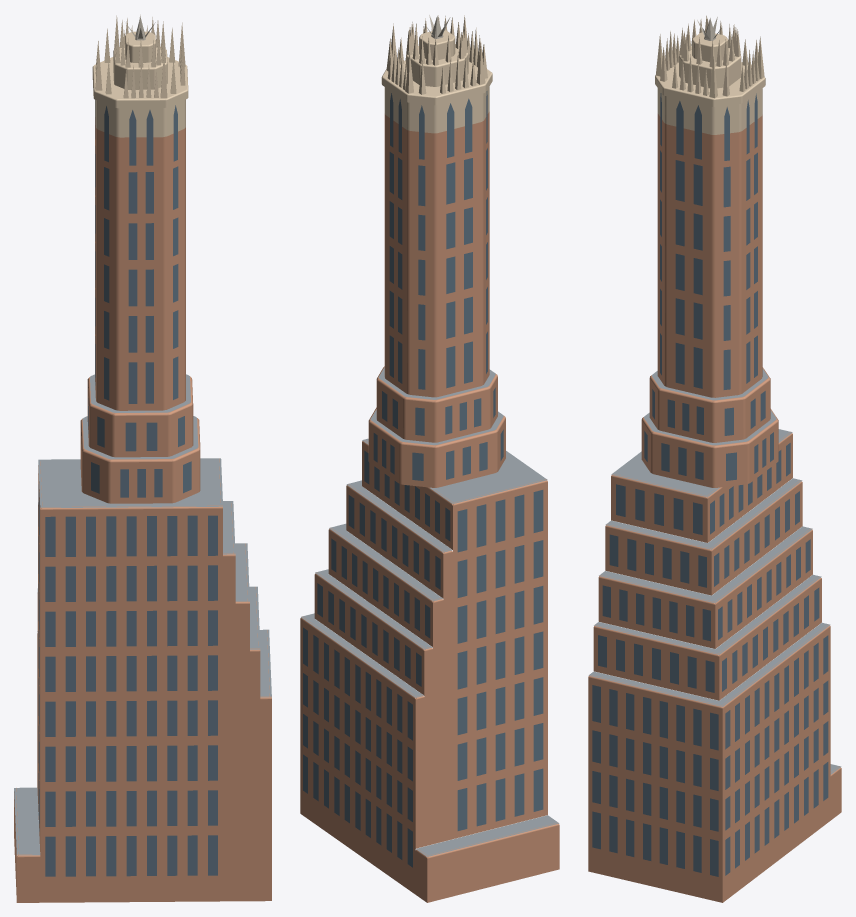
3 renders of one model, left to right at view 1: azimuth 30°, elevation 25°; view 2: azimuth 150°, elevation 25°; view 3: azimuth 270°, elevation 25°, orthographic. The views are drawn at different scales.
Parts seen in each view (by area): view 1: general-electric-building; view 2: general-electric-building; view 3: general-electric-building.
Part boxes in pixels (box(x1,y1,x2,y2)): general-electric-building: box(14, 14, 271, 902); general-electric-building: box(300, 15, 559, 902); general-electric-building: box(588, 15, 841, 902).
Size of the model in its own units: 62.81 by 197 by 55.05.
